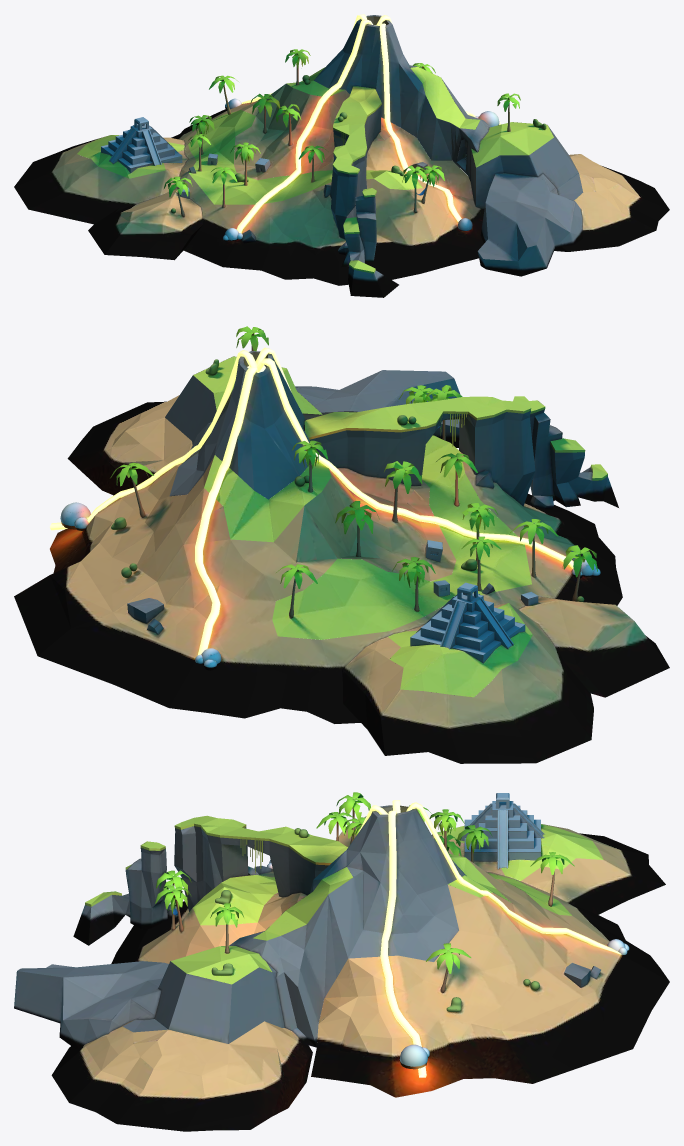
The model's file is volcano-island-transformed.glb.
3 renders of one model, top to bottom at view 1: azimuth 30°, elevation 25°; view 2: azimuth 150°, elevation 25°; view 3: azimuth 270°, elevation 25°, orthographic. The views are drawn at different scales.
Parts seen in each view (by area): view 1: Volacano_Sand_Volacano_Sand_0, Volcano_Base_Volcano_Base_0, Volcano_Grass_Volcano_Grass_0, Palm tree_1_Palm tree_1_0, Volcanic_lava_Volcanic_lava_0, Island_Grass_Island_Grass_0, Pyramid_Pyramid_0, Palm tree_2_Palm tree_2_0, Lava_bubble_Lava_bubble_0; view 2: Volacano_Sand_Volacano_Sand_0, Volcano_Base_Volcano_Base_0, Volcano_Grass_Volcano_Grass_0, Palm tree_1_Palm tree_1_0, Volcanic_lava_Volcanic_lava_0, Island_Grass_Island_Grass_0, Pyramid_Pyramid_0, Palm tree_2_Palm tree_2_0, Lava_bubble_Lava_bubble_0, shrubbery_shrubbery_0; view 3: Volacano_Sand_Volacano_Sand_0, Volcano_Base_Volcano_Base_0, Volcano_Grass_Volcano_Grass_0, Palm tree_1_Palm tree_1_0, Volcanic_lava_Volcanic_lava_0, Pyramid_Pyramid_0, Island_Grass_Island_Grass_0, Lava_bubble_Lava_bubble_0, shrubbery_shrubbery_0, Palm tree_2_Palm tree_2_0.
Part boxes in pixels (x1=…): Volacano_Sand_Volacano_Sand_0: x1=14, y1=81, x2=669, y2=285; Volcano_Base_Volcano_Base_0: x1=189, y1=15, x2=583, y2=297; Volcano_Grass_Volcano_Grass_0: x1=77, y1=66, x2=553, y2=204; Palm tree_1_Palm tree_1_0: x1=164, y1=49, x2=520, y2=197; Volcanic_lava_Volcanic_lava_0: x1=236, y1=14, x2=500, y2=233; Island_Grass_Island_Grass_0: x1=332, y1=86, x2=381, y2=273; Pyramid_Pyramid_0: x1=101, y1=117, x2=270, y2=198; Palm tree_2_Palm tree_2_0: x1=177, y1=53, x2=510, y2=217; Lava_bubble_Lava_bubble_0: x1=223, y1=98, x2=499, y2=241; Volacano_Sand_Volacano_Sand_0: x1=14, y1=395, x2=669, y2=763; Volcano_Base_Volcano_Base_0: x1=127, y1=351, x2=618, y2=634; Volcano_Grass_Volcano_Grass_0: x1=193, y1=356, x2=532, y2=697; Palm tree_1_Palm tree_1_0: x1=110, y1=326, x2=597, y2=588; Volcanic_lava_Volcanic_lava_0: x1=49, y1=347, x2=573, y2=655; Island_Grass_Island_Grass_0: x1=304, y1=396, x2=607, y2=480; Pyramid_Pyramid_0: x1=410, y1=540, x2=538, y2=663; Palm tree_2_Palm tree_2_0: x1=129, y1=333, x2=582, y2=618; Lava_bubble_Lava_bubble_0: x1=60, y1=502, x2=600, y2=670; shrubbery_shrubbery_0: x1=111, y1=359, x2=584, y2=601; Volacano_Sand_Volacano_Sand_0: x1=51, y1=816, x2=669, y2=1131; Volcano_Base_Volcano_Base_0: x1=14, y1=805, x2=600, y2=1048; Volcano_Grass_Volcano_Grass_0: x1=171, y1=824, x2=603, y2=984; Palm tree_1_Palm tree_1_0: x1=155, y1=792, x2=574, y2=973; Volcanic_lava_Volcanic_lava_0: x1=358, y1=800, x2=621, y2=1077; Pyramid_Pyramid_0: x1=459, y1=793, x2=544, y2=869; Island_Grass_Island_Grass_0: x1=85, y1=815, x2=347, y2=906; Lava_bubble_Lava_bubble_0: x1=267, y1=860, x2=629, y2=1069; shrubbery_shrubbery_0: x1=211, y1=828, x2=539, y2=1011; Palm tree_2_Palm tree_2_0: x1=171, y1=807, x2=554, y2=992.
Bounding box in the file's own units: 20296 × 6505 × 18378.
Materials: 13 (13 with a texture image).
